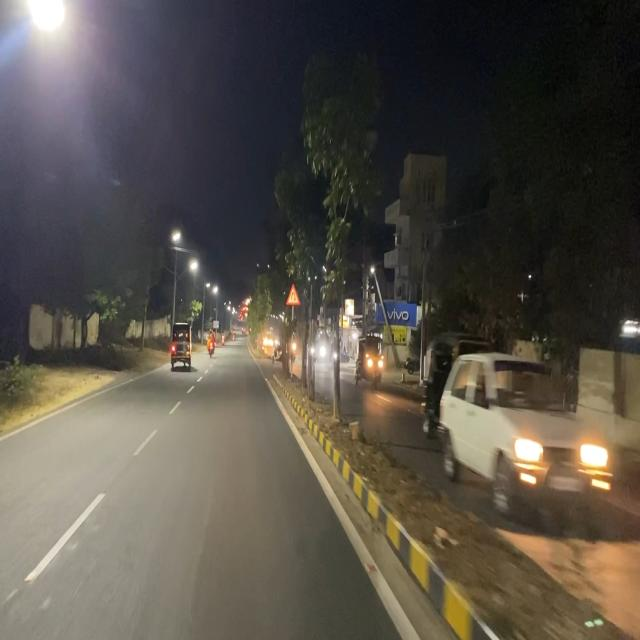bien_cam: (285, 282, 301, 308)
